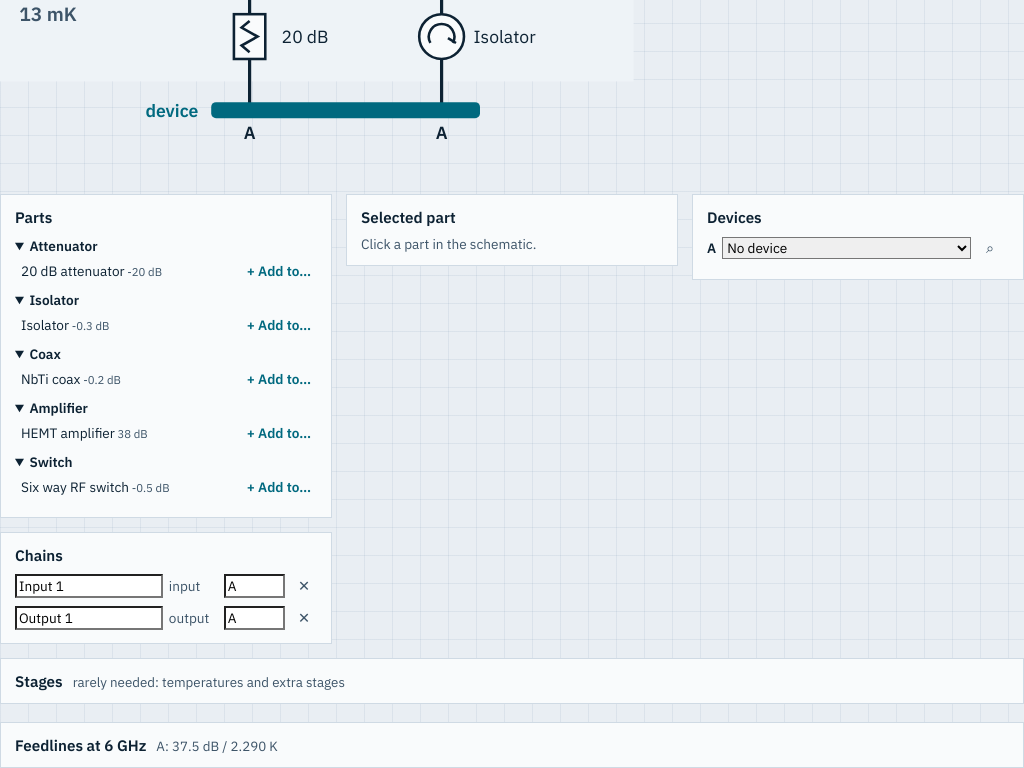
SetupDesigner › offers a chain that accepts the part when adding from the palette
The width and height of the screenshot is (1024, 768).
(page scrolled)
Click the button with aria-label "Add HEMT amplifier to…".
click(279, 433)  # box [247,421,311,445]
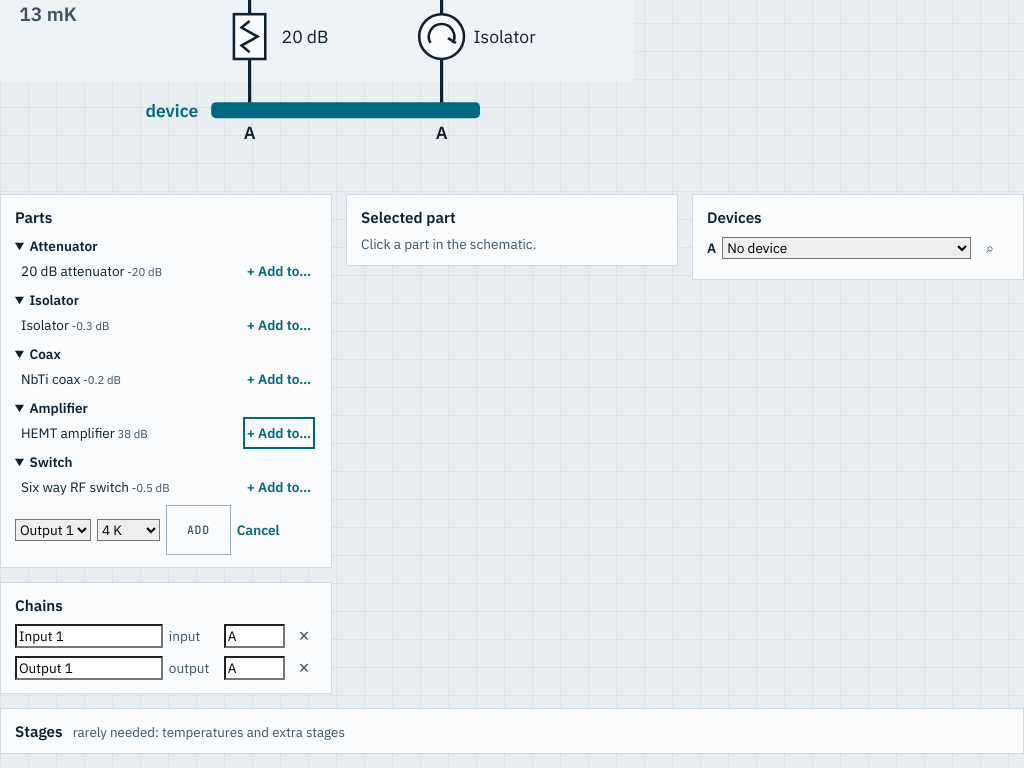
Expected: the dropdown named "Chain" shows "Output 1", [15,519,91,541]
